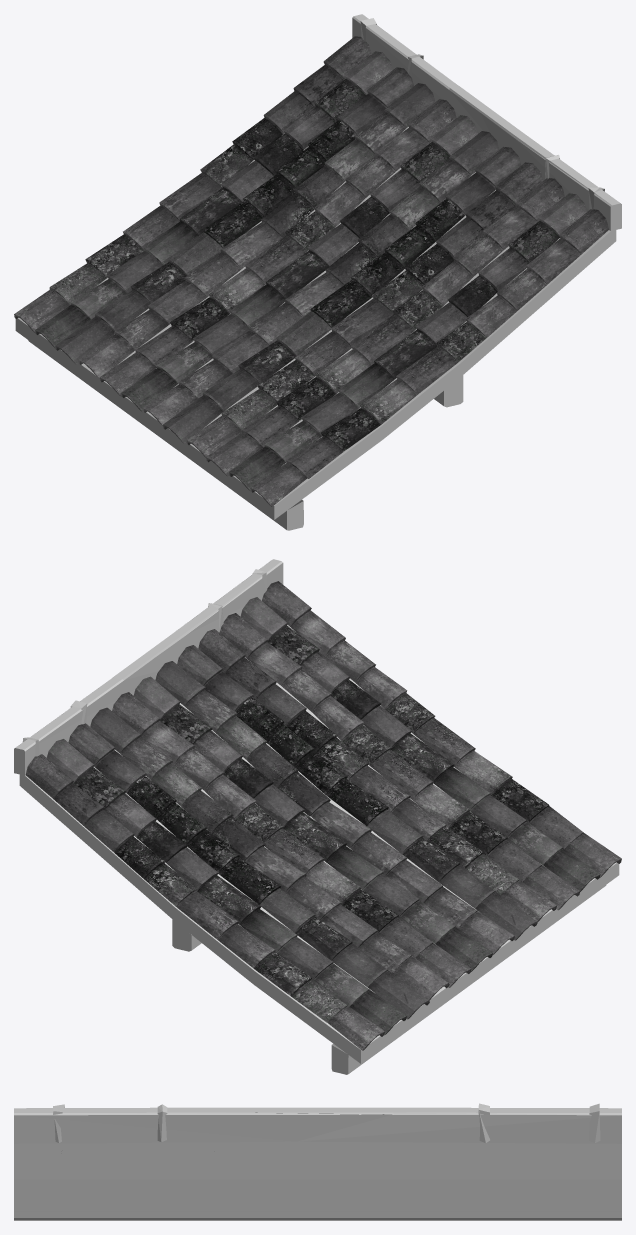
Rendered from WaDing_6.fbx.
3 renders of one model, top to bottom at view 1: azimuth 30°, elevation 25°; view 2: azimuth 150°, elevation 25°; view 3: azimuth 270°, elevation 25°, orthographic. The views are drawn at different scales.
Parts seen in each view (by area): view 1: 3D_WaDingFYQ.mo; view 2: 3D_WaDingFYQ.mo; view 3: 3D_WaDingFYQ.mo.
Boxes of the visible parts, <box> form: 3D_WaDingFYQ.mo: <box>14,14,621,530</box>; 3D_WaDingFYQ.mo: <box>14,559,621,1074</box>; 3D_WaDingFYQ.mo: <box>14,1103,621,1220</box>.
Size of the model in its own units: 298 by 199 by 373.
